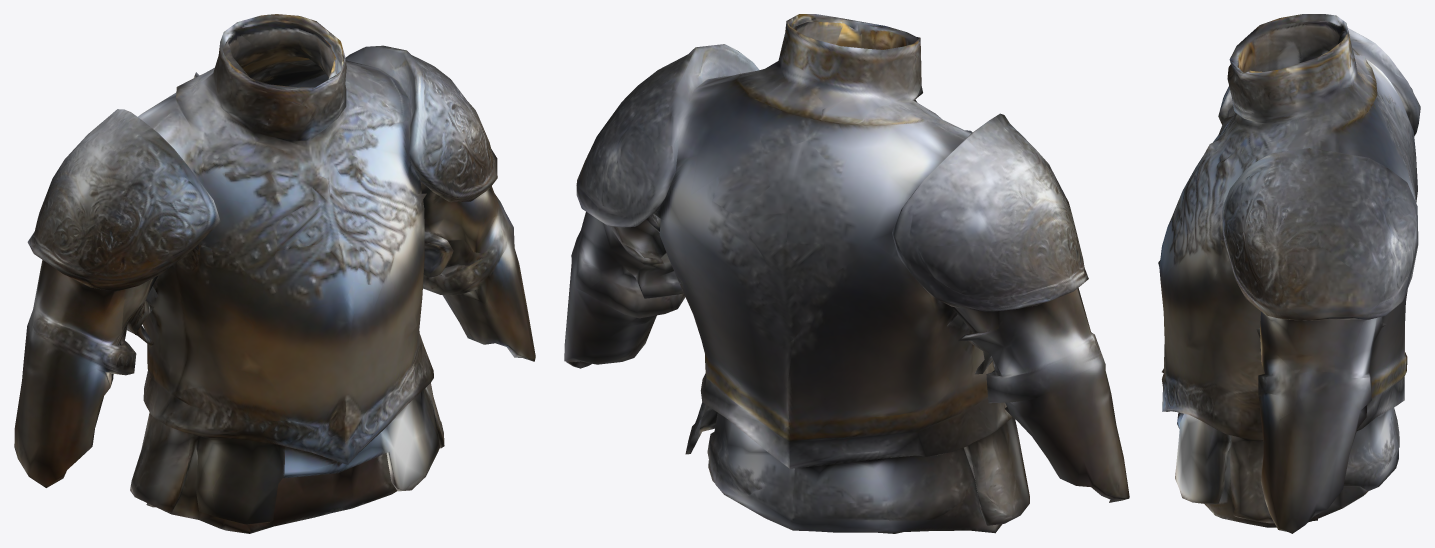
3 renders of one model, left to right at view 1: azimuth 30°, elevation 25°; view 2: azimuth 150°, elevation 25°; view 3: azimuth 270°, elevation 25°, orthographic. The views are drawn at different scales.
Size of the model in its own units: 1.98 by 1.66 by 0.8875.
Materials: 1 (1 with a texture image).
